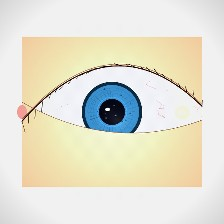pinguecula_lesion: (168, 101, 197, 124)
